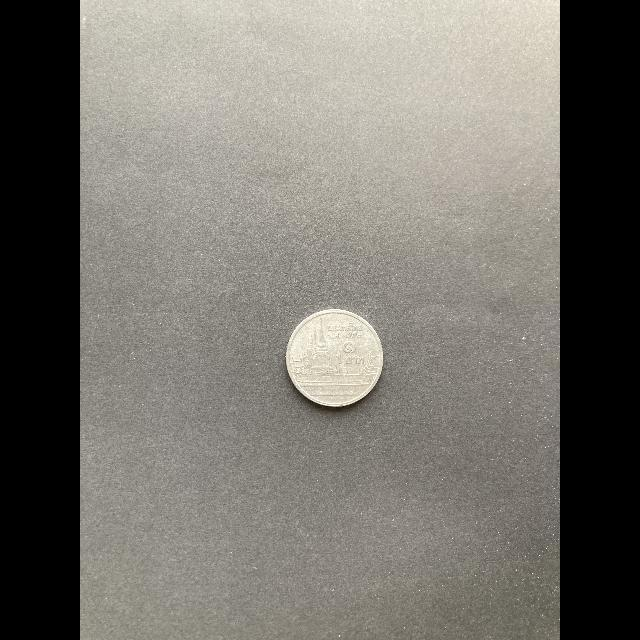1 Bath: (284, 306, 390, 417)
